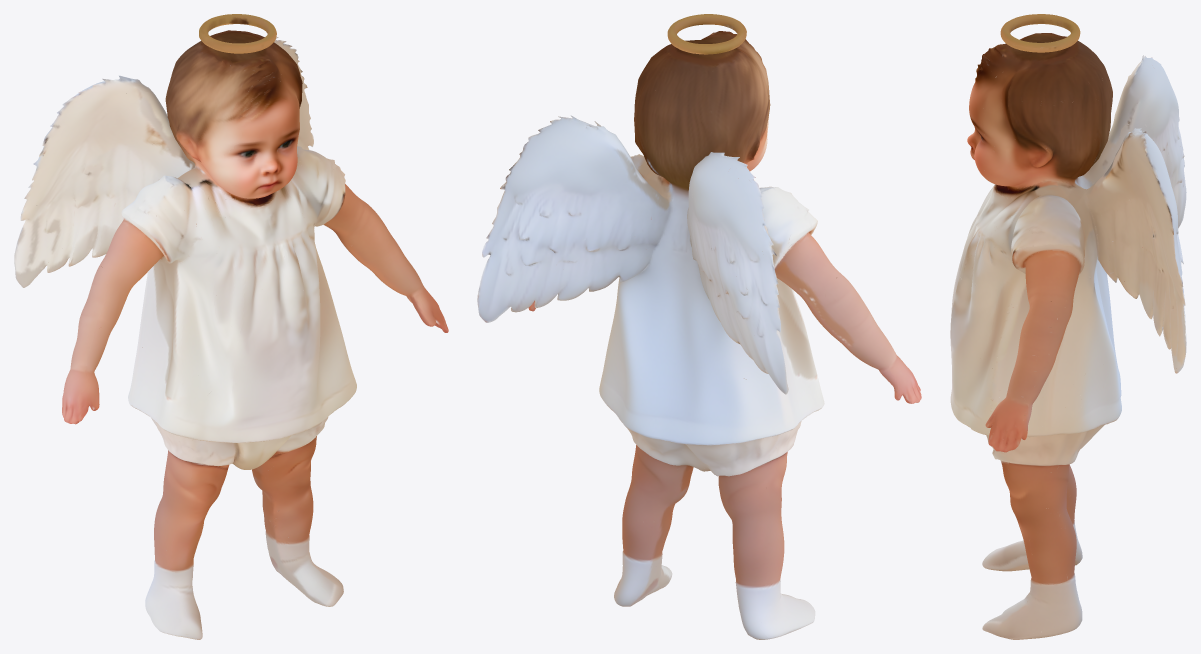
The model's file is base_basic_shaded.fbx.
3 views of the same model, side by side, from view 1: azimuth 30°, elevation 25°; view 2: azimuth 150°, elevation 25°; view 3: azimuth 270°, elevation 25° (orthographic). The views are drawn at different scales.
Parts seen in each view (by area): view 1: model; view 2: model; view 3: model.
Boxes of the visible parts, x1,y1,x2,y2 form: model: (14,14,448,639); model: (477,14,921,639); model: (950,14,1186,639).
Size of the model in its own units: 132 by 190 by 70.92.
